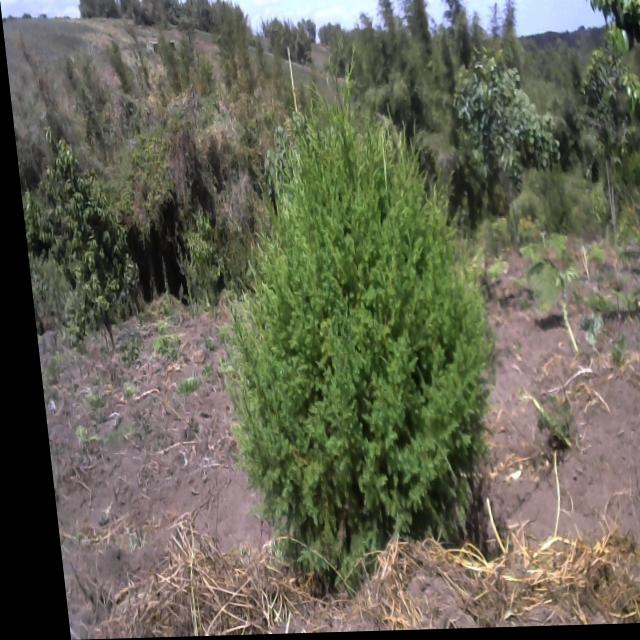Lemon Myrtle: (17, 140, 143, 340), (450, 32, 560, 235), (573, 47, 640, 215)
cedrus: (190, 89, 501, 611)
